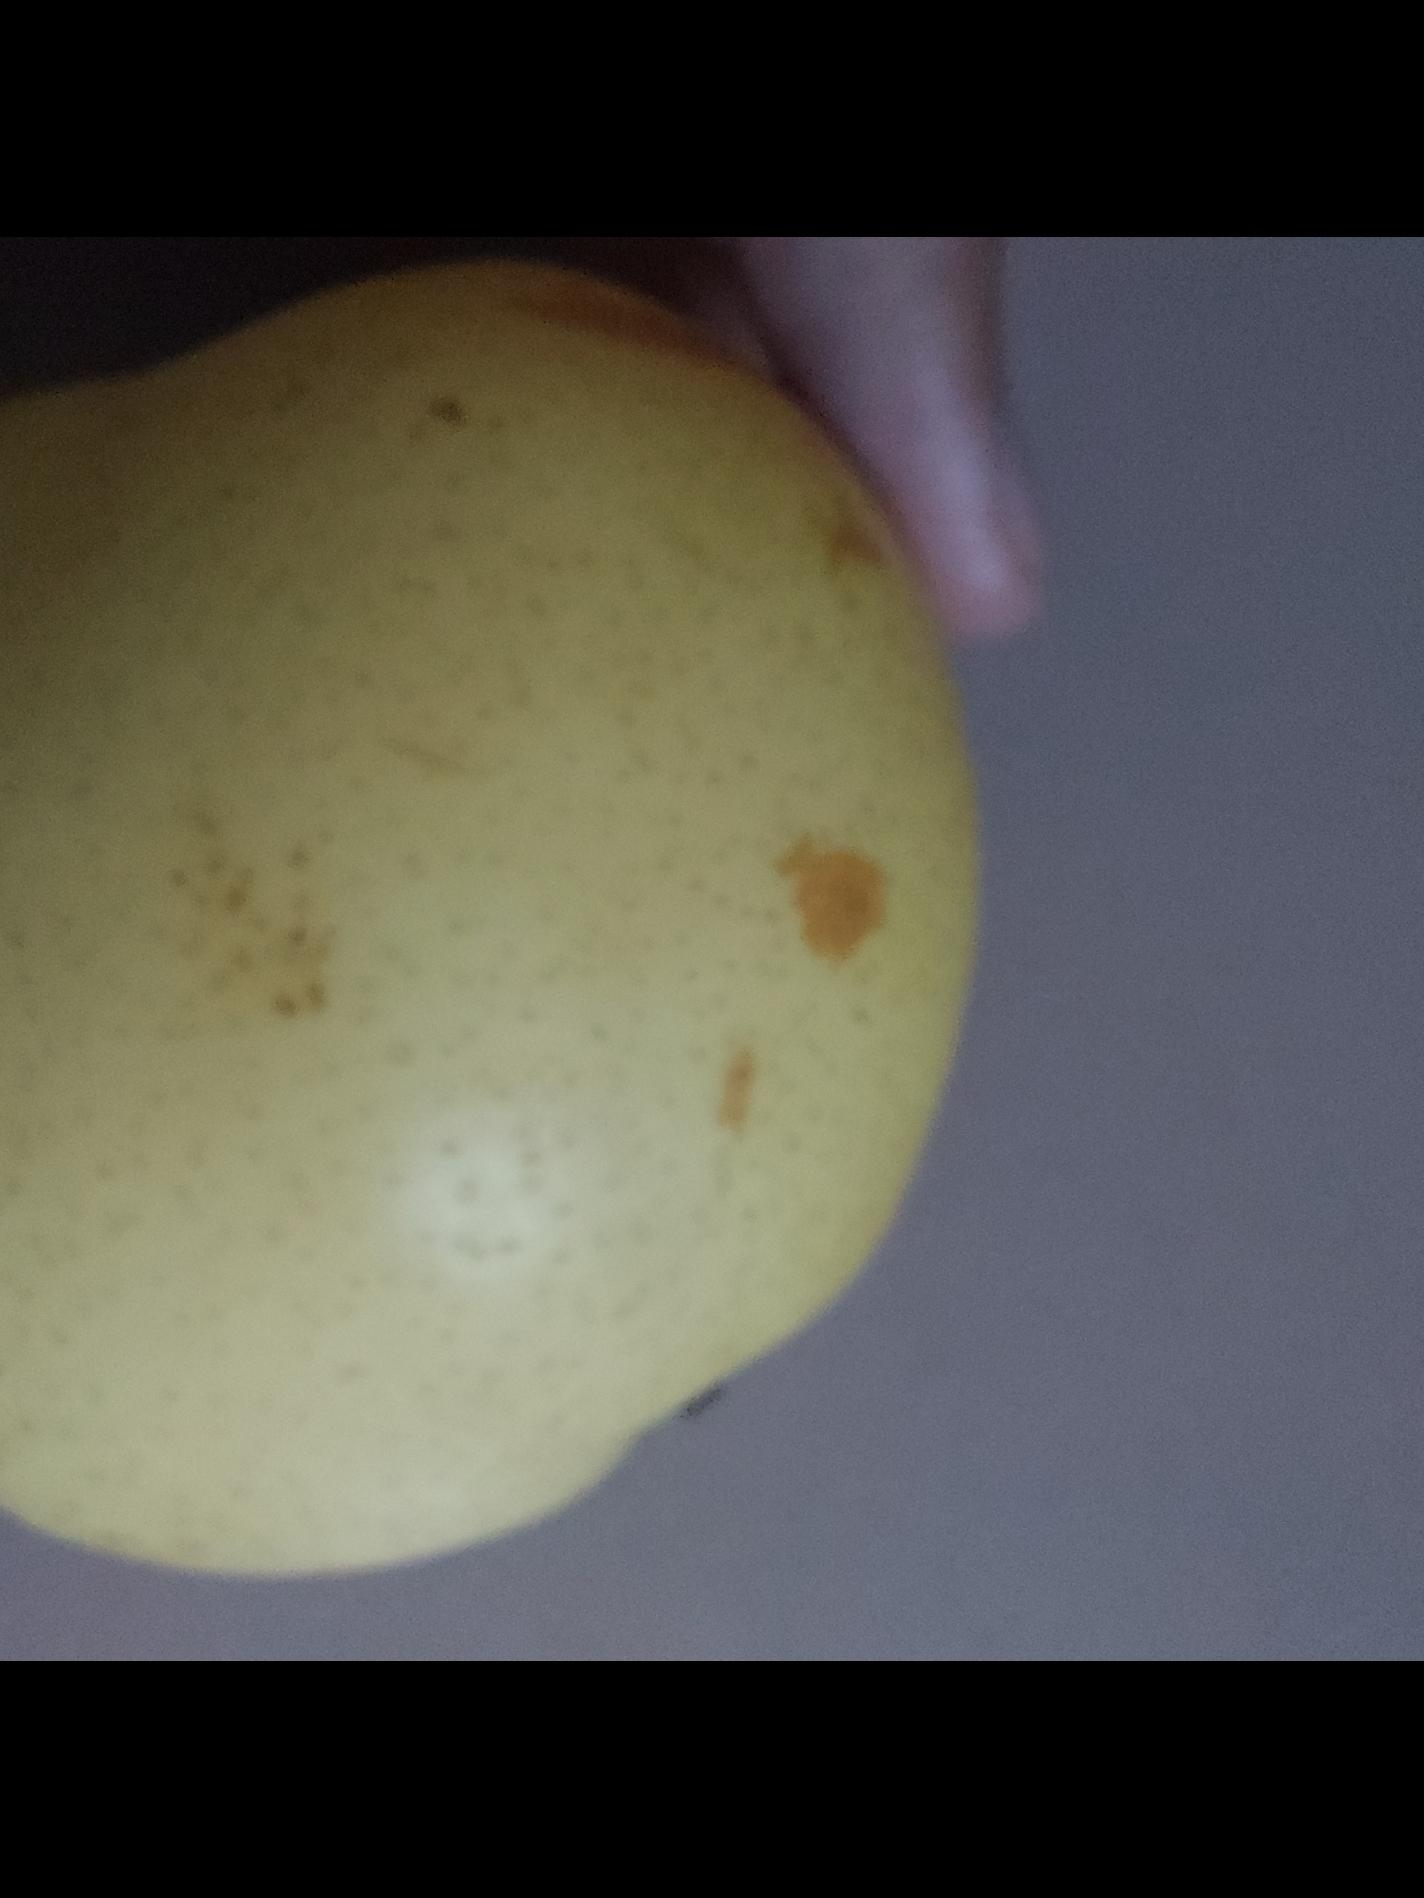Good Pear: (0, 254, 989, 1585)
